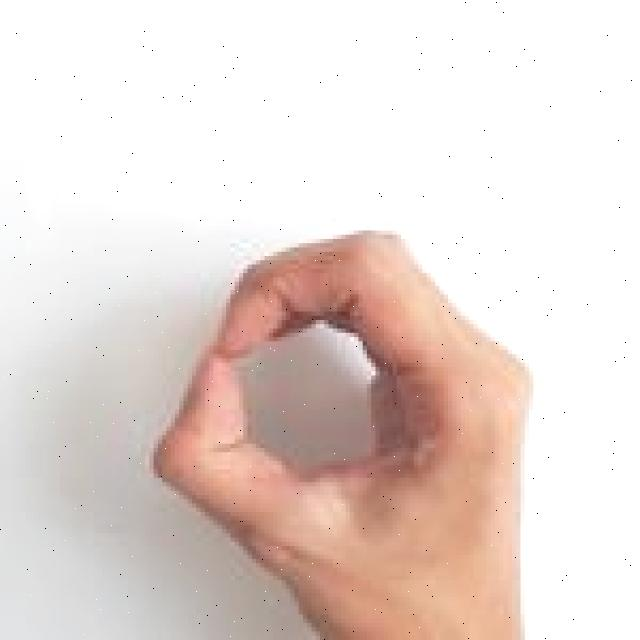O: (148, 219, 540, 640)
